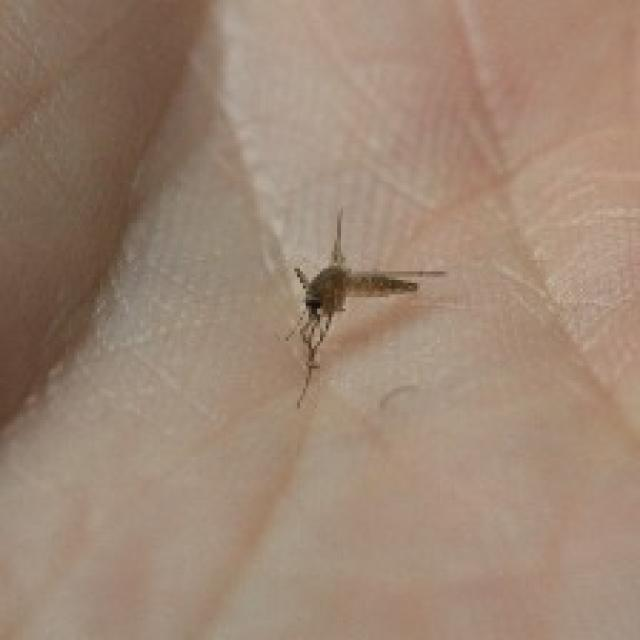culex: (283, 206, 446, 406)
